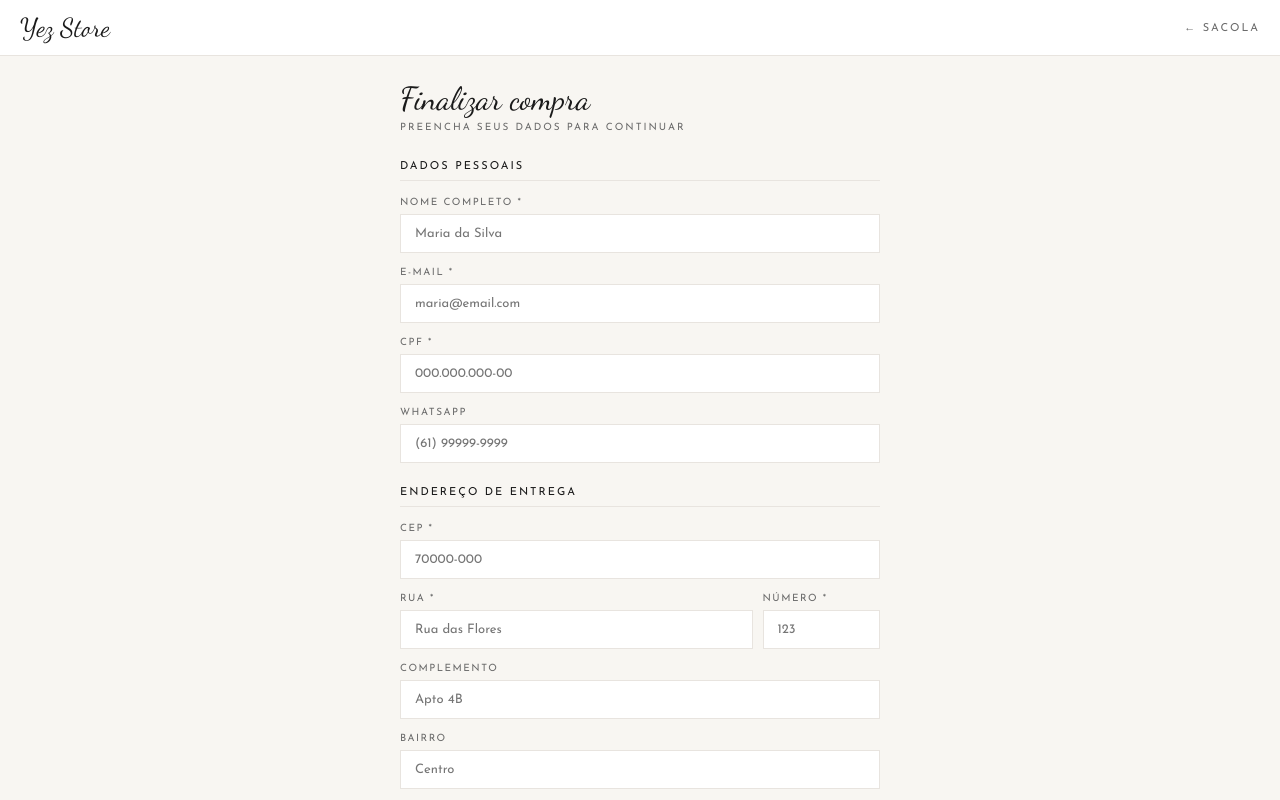
Test: CheckoutPage › preenche rua, bairro, cidade e estado ao digitar CEP com 8 dígitos
Type "12345678" into the field with placeholder "70000-000". click: (640, 560)
box: x1=400 y1=540 x2=880 y2=579
(page scrolled)
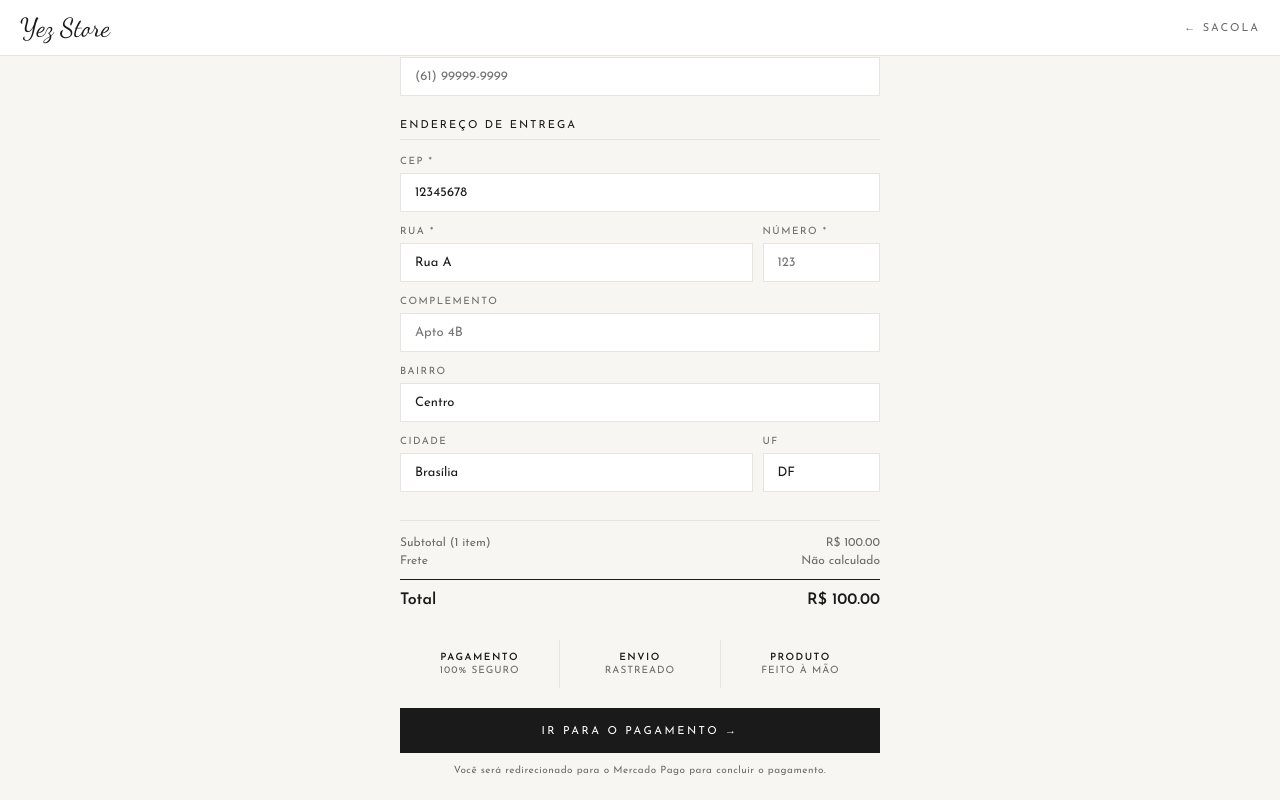
Now the field with placeholder "Rua das Flores" below "Rua *" holds "Rua A", box x1=400 y1=243 x2=752 y2=282
Now the field with placeholder "Centro" below "Bairro" holds "Centro", box x1=400 y1=383 x2=880 y2=422
Now the field with placeholder "Brasília" below "Cidade" holds "Brasília", box x1=400 y1=453 x2=752 y2=492
